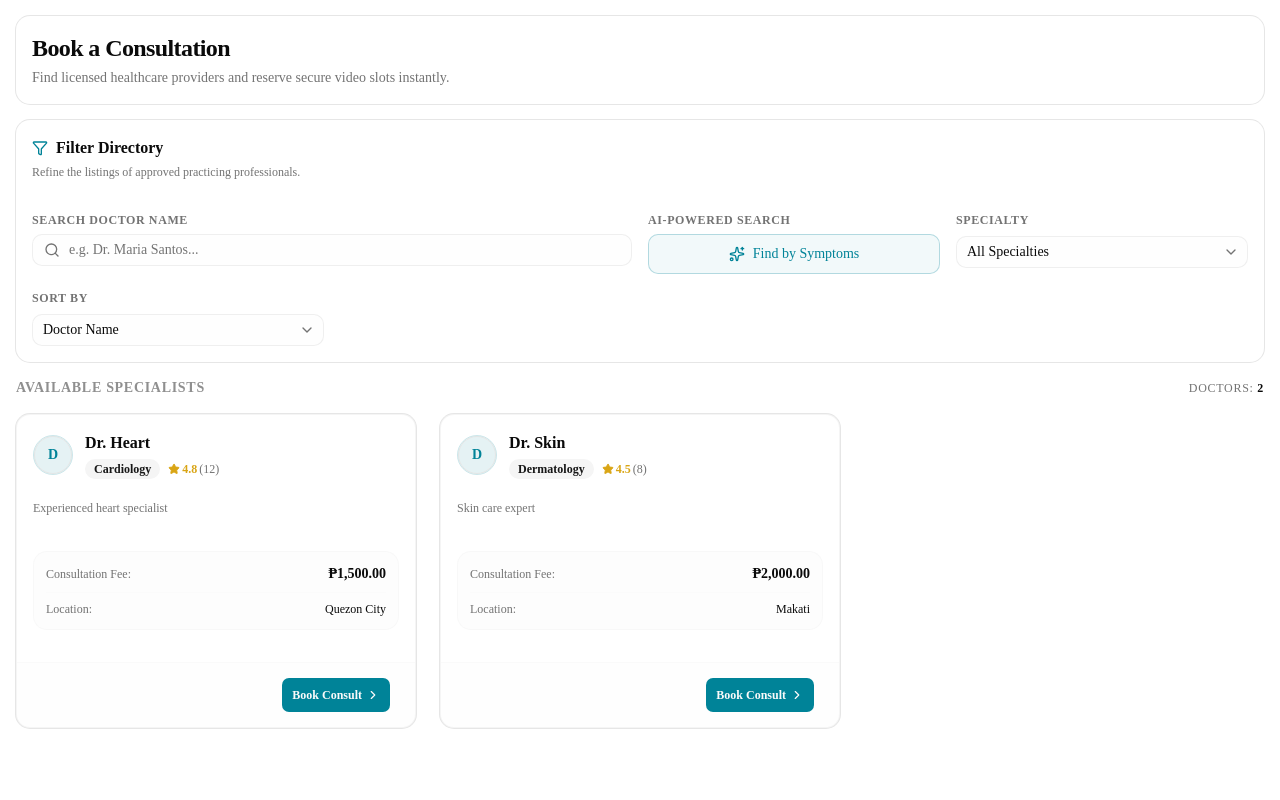
BookAppointmentPage - AI symptom feature › closes dialog when clicking Cancel
Expected: the text "Book a Consultation" is shown, [32,35,230,61]
Click the button "Find by Symptoms": (794, 254) [648,234,940,274]
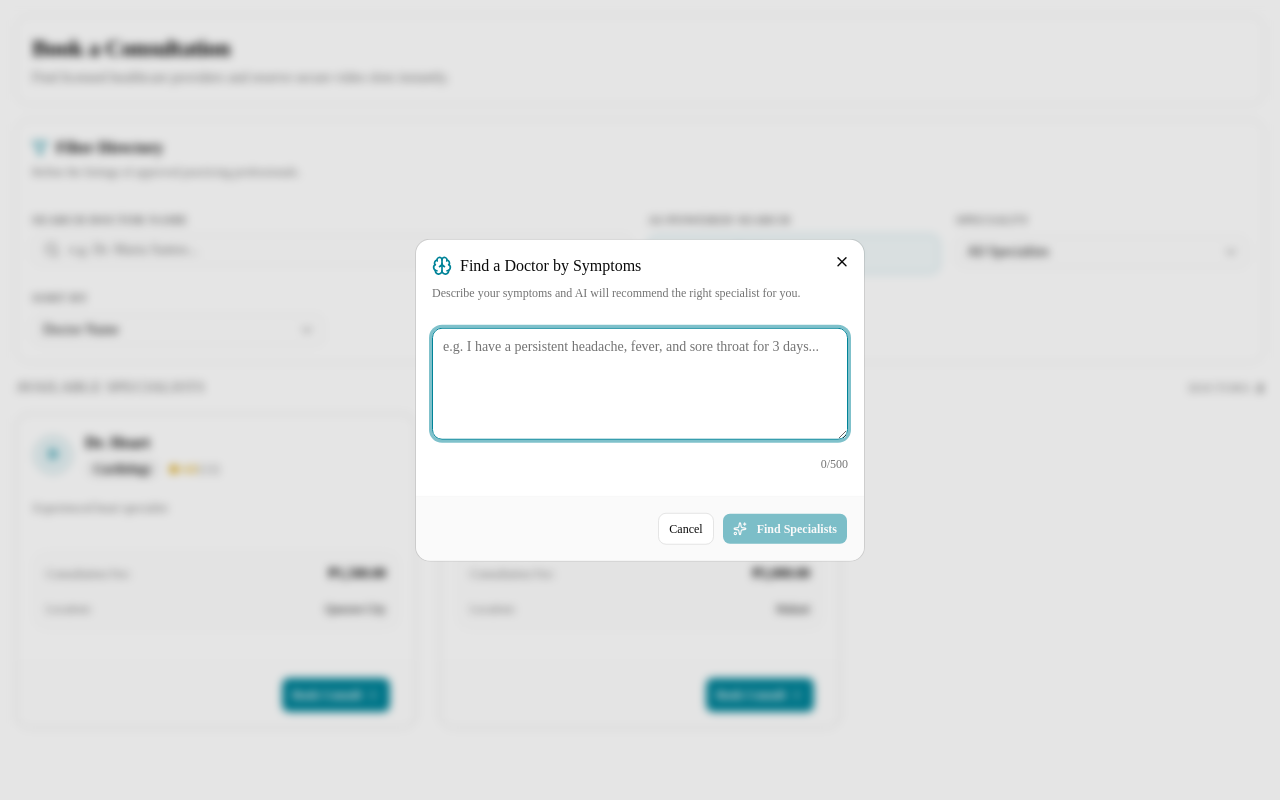
Expected: the heading "Find a Doctor by Symptoms" is shown, [432,256,641,276]
Click the button "Cancel": (686, 528) [658,512,714,544]
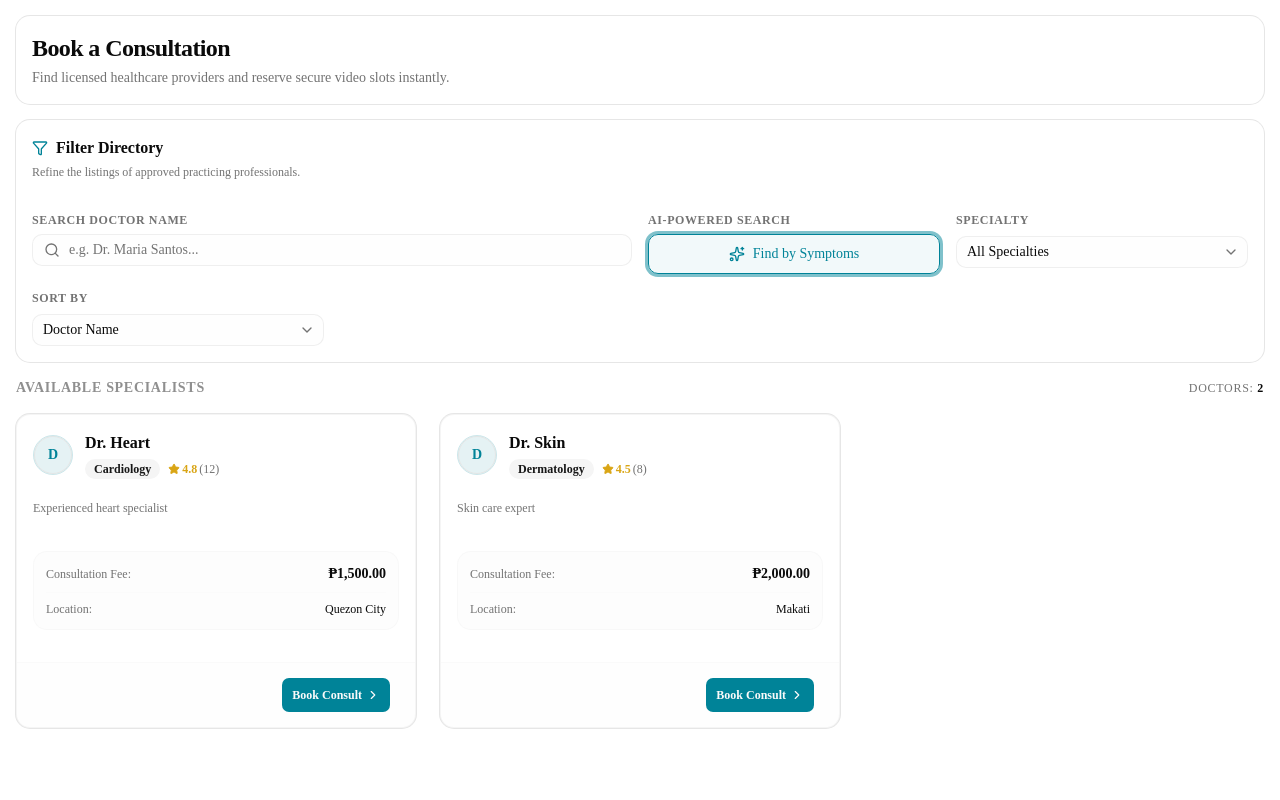
Expected: the heading "Find a Doctor by Symptoms" is gone
